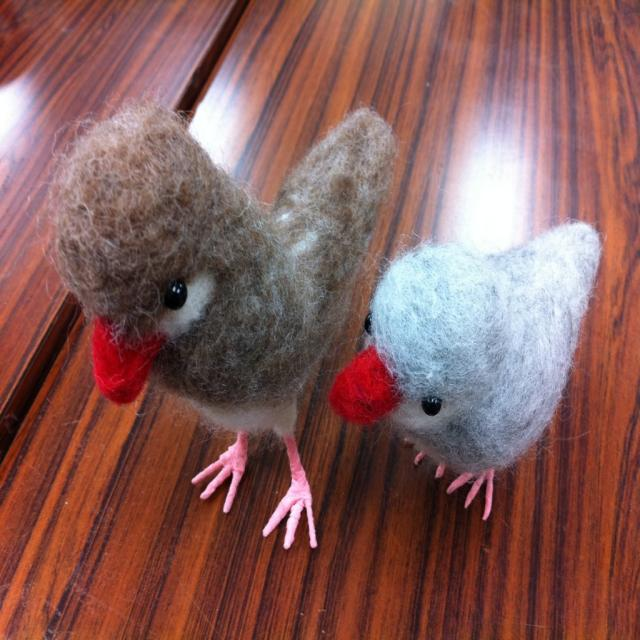Chicken: (69, 89, 372, 564)
